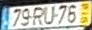6: (66, 3, 77, 24)
7: (57, 4, 67, 25), (11, 8, 21, 28)
9: (19, 7, 30, 27)
R: (31, 6, 44, 26)
U: (43, 5, 55, 25)
